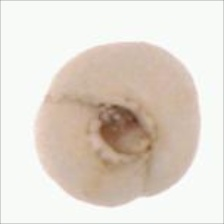L3: (91, 102, 153, 160)
L4: (33, 42, 201, 207)
